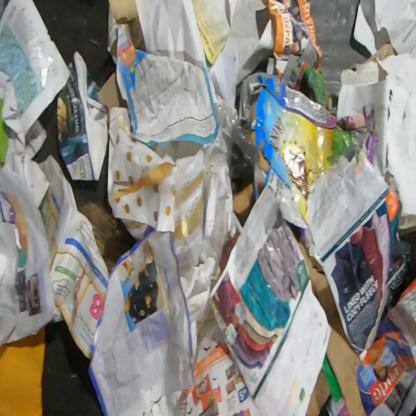cardboard: (232, 72, 376, 268), (297, 237, 368, 415), (56, 50, 108, 181), (80, 200, 140, 277), (97, 70, 129, 125), (304, 366, 332, 415)
rigid_plastic: (215, 95, 254, 166)
